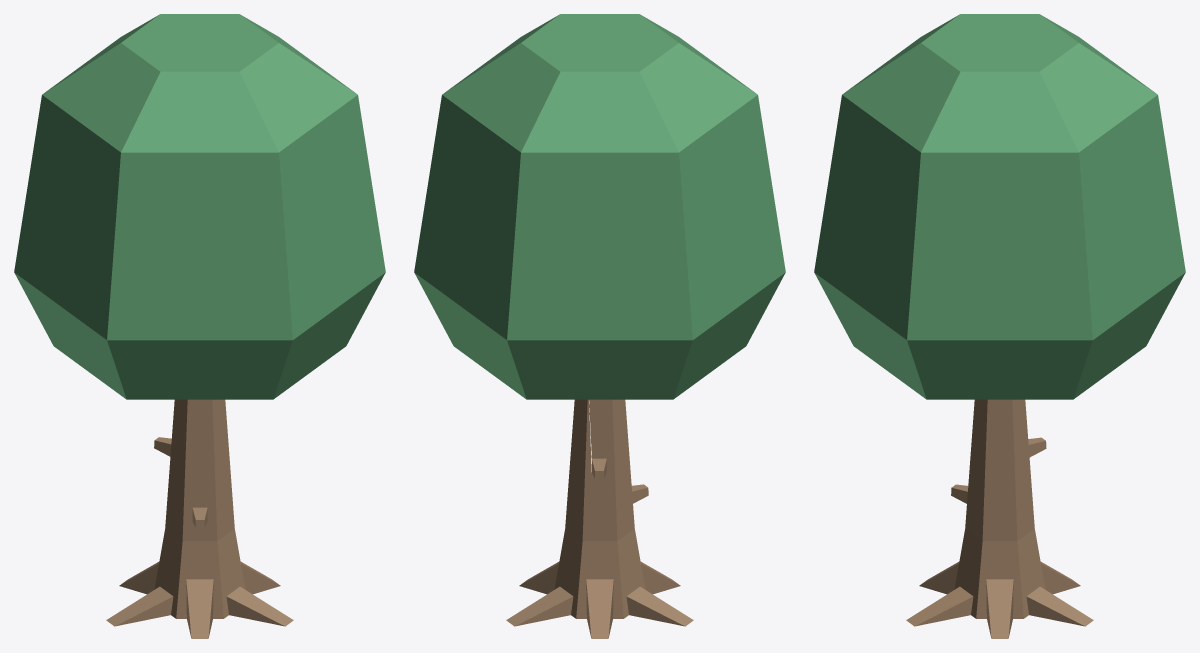
File: oak.glb
3 renders of one model, left to right at view 1: azimuth 30°, elevation 25°; view 2: azimuth 150°, elevation 25°; view 3: azimuth 270°, elevation 25°, orthographic.
Visible parts, largest first — view 1: oak; view 2: oak; view 3: oak.
Boxes of the visible parts, x1=… form: oak: x1=14, y1=14, x2=385, y2=638; oak: x1=414, y1=14, x2=785, y2=638; oak: x1=814, y1=14, x2=1185, y2=638.
Size of the model in its own units: 0.5224 by 1 by 0.6032.
